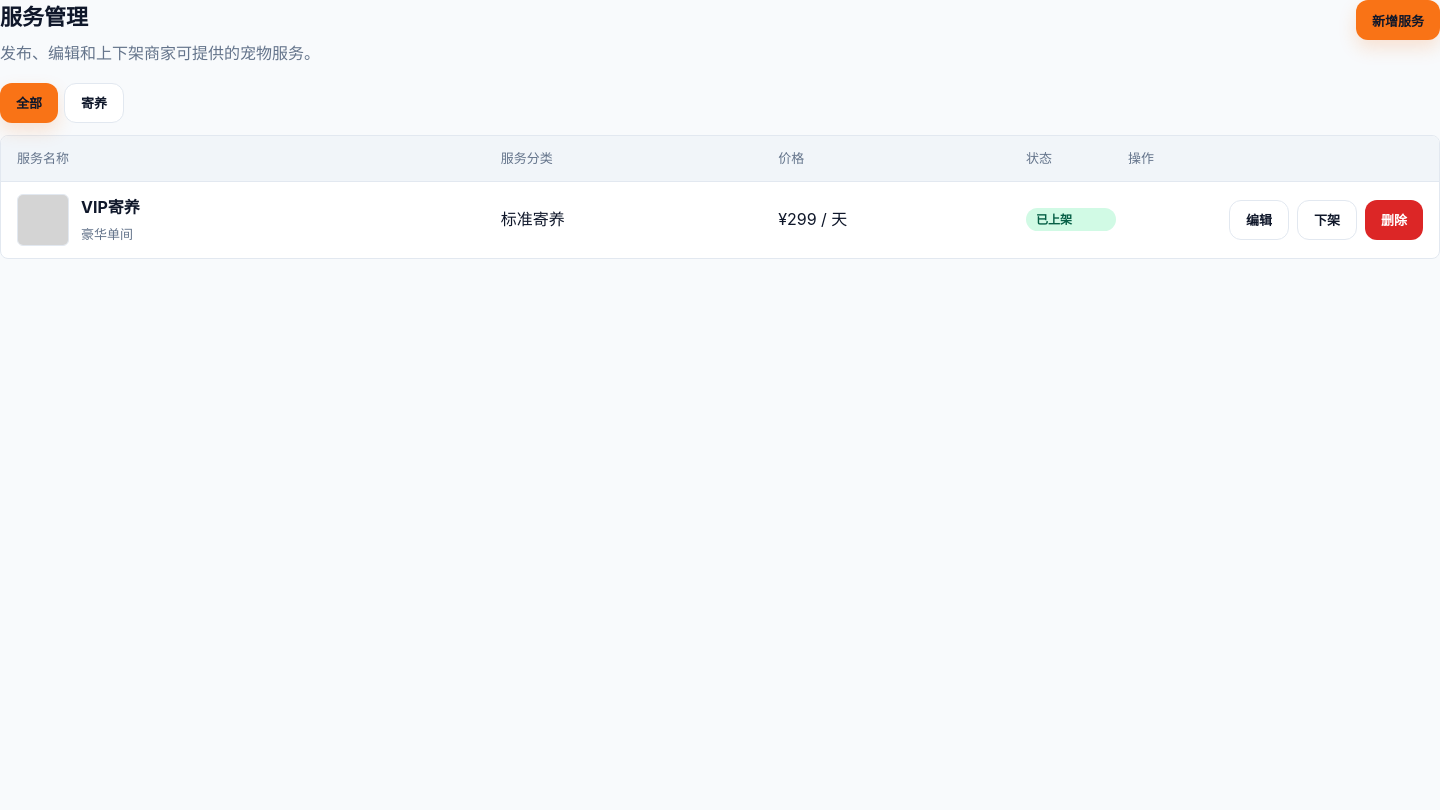
Test: MerchantServices 服务产品编辑器 › F-MGT-015 编辑时回显规范化单位与时长
The width and height of the screenshot is (1440, 810).
What coordinates should you click on to do the following:
click the button "编辑"
I would click on:
 (1259, 220)
Its box is 1229,200 -> 1289,240.
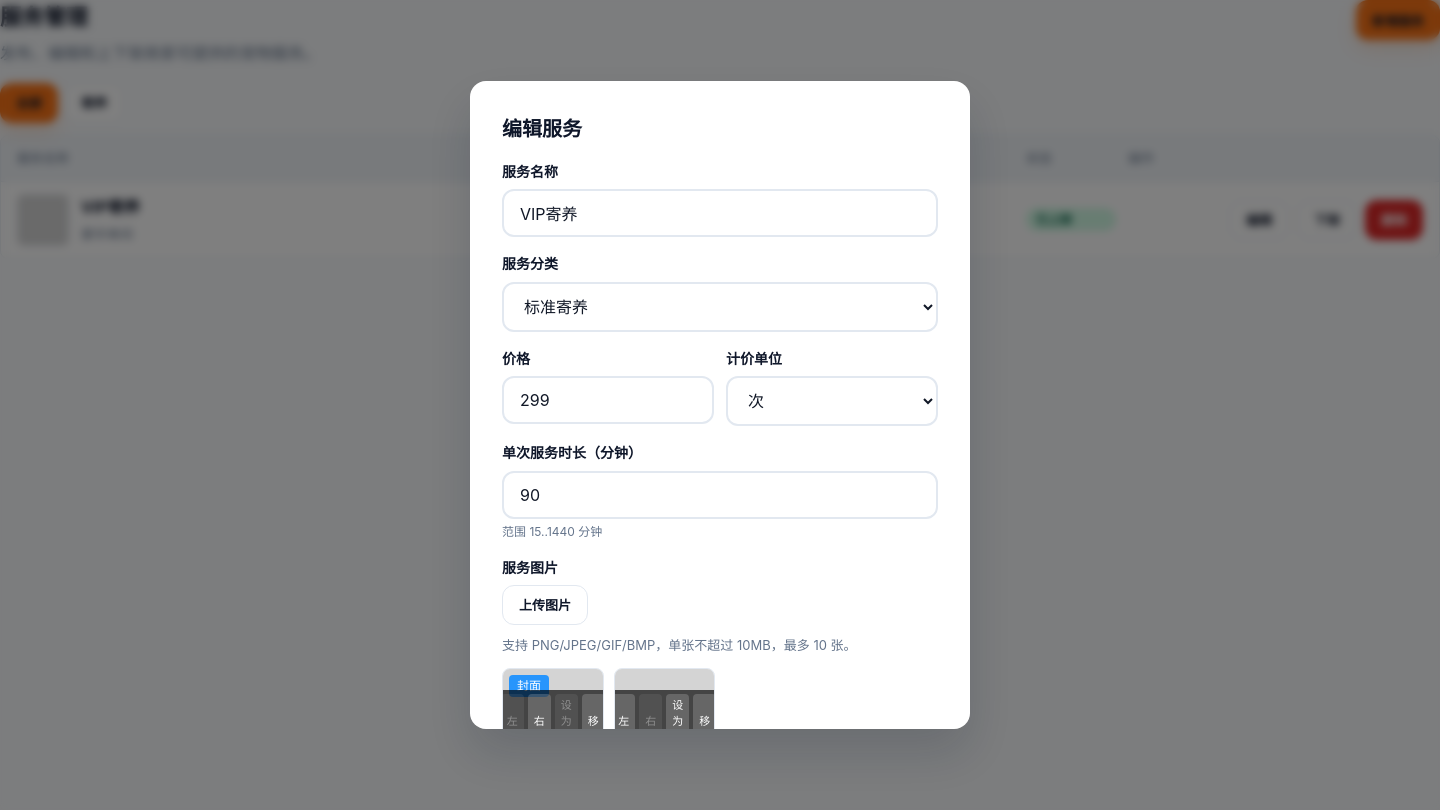
Result: the dropdown with test id "unit-select" shows "次" at 726,376 -> 938,426
